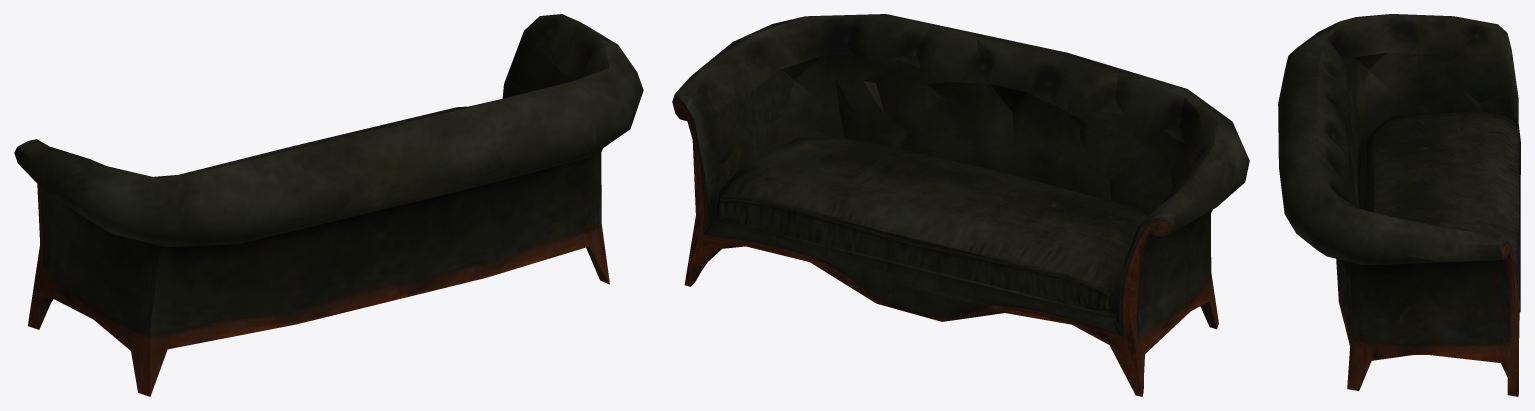
The model's file is sofa-victorian-b.lod1.glb.
3 views of the same model, side by side, from view 1: azimuth 30°, elevation 25°; view 2: azimuth 150°, elevation 25°; view 3: azimuth 270°, elevation 25° (orthographic). The views are drawn at different scales.
Parts seen in each view (by area): view 1: sofa-victorian-b; view 2: sofa-victorian-b; view 3: sofa-victorian-b.
Part boxes in pixels (x1,y1,x2,y2): sofa-victorian-b: [14, 14, 643, 396]; sofa-victorian-b: [672, 14, 1249, 396]; sofa-victorian-b: [1278, 14, 1520, 396].
Size of the model in its own units: 1.81 by 0.71 by 0.8151.
1 material, 1 textured.
